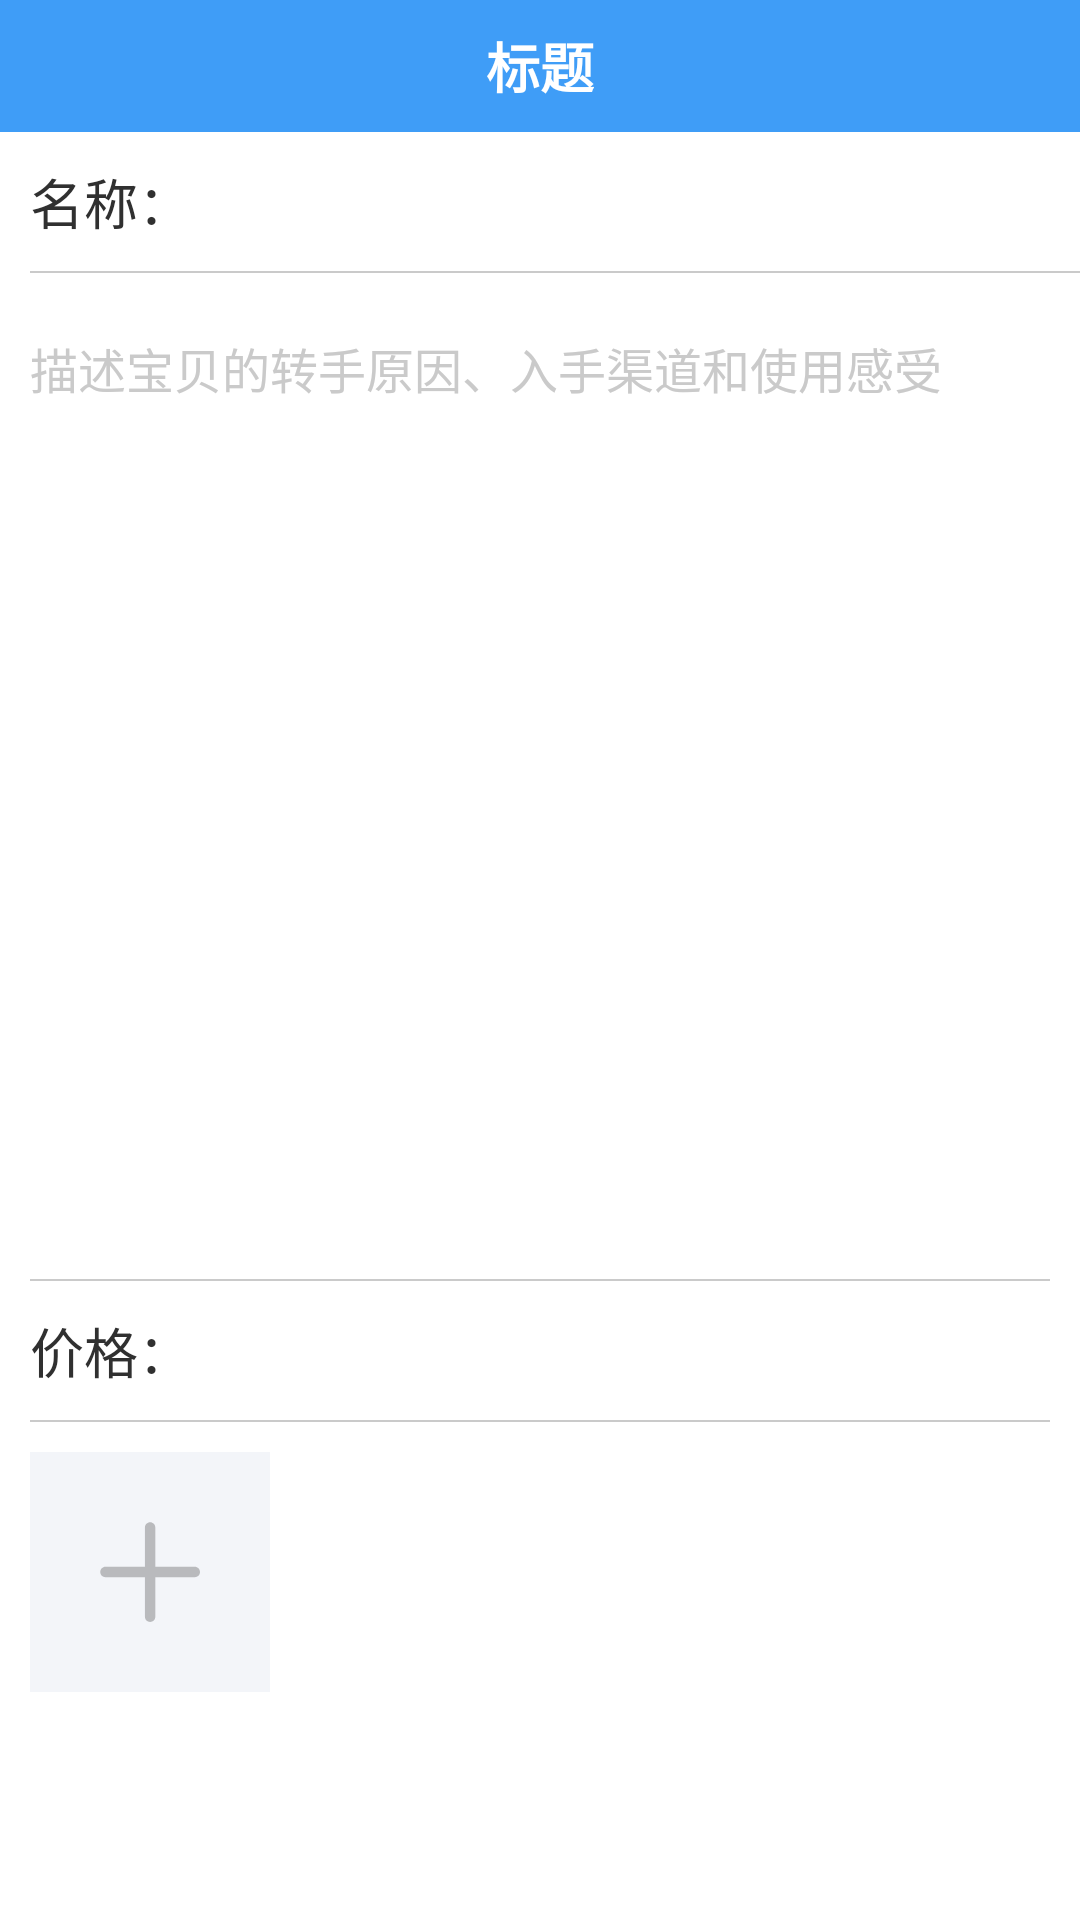

Locate icon controls on the screen. Image size 1080 × 1920, boxes as (x1, y1, x2, y2).
add pic: (30, 1452, 270, 1692)
